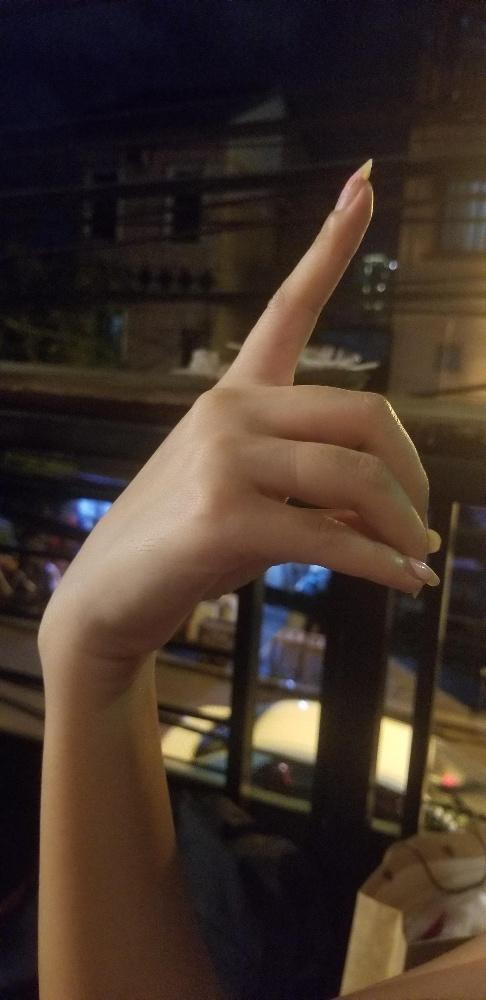d: (66, 155, 444, 678)
